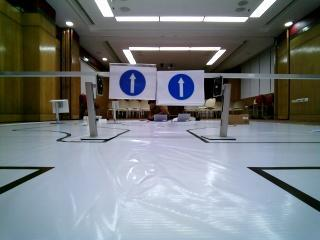straight: (156, 69, 203, 105), (113, 62, 154, 96)
